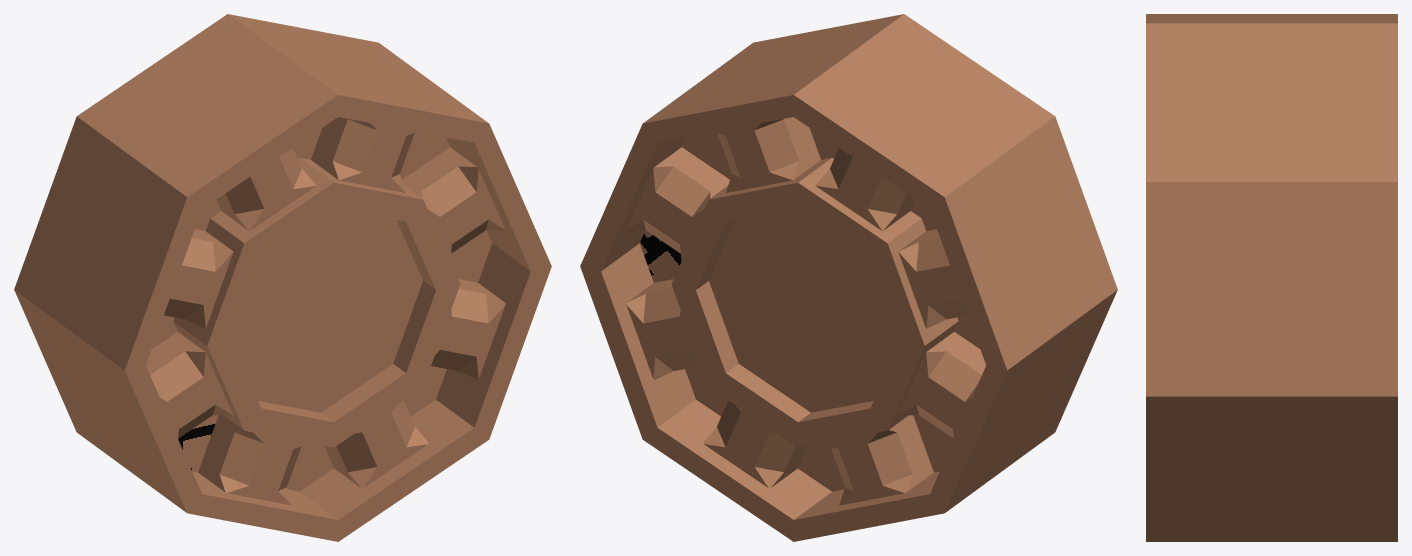
File: rotor.obj
The picture shows the model from 3 angles, left to right: view 1: azimuth 30°, elevation 25°; view 2: azimuth 150°, elevation 25°; view 3: azimuth 270°, elevation 25°; orthographic projection. The views are drawn at different scales.
Visible parts, largest first — view 1: Цилиндр.006; view 2: Цилиндр.006; view 3: Цилиндр.006.
Part boxes in pixels (<box>): Цилиндр.006: <box>14,14,551,541</box>; Цилиндр.006: <box>580,14,1117,541</box>; Цилиндр.006: <box>1146,14,1397,541</box>.
Size of the model in its own units: 1.94 by 1.94 by 0.87.
